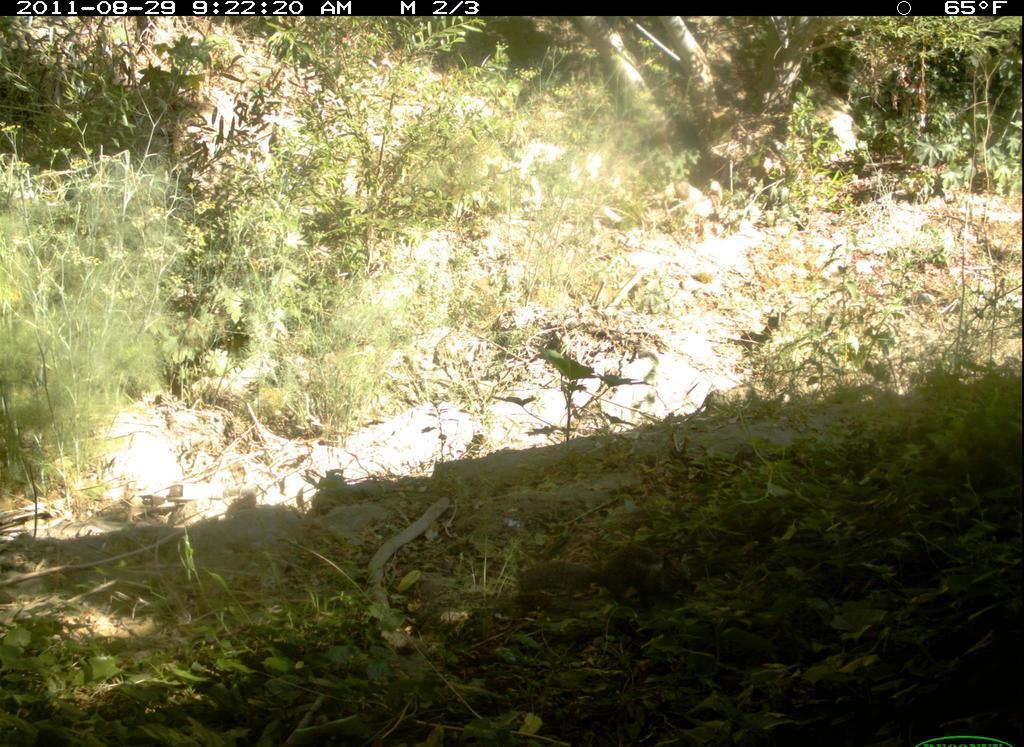squirrel: (489, 524, 720, 630)
